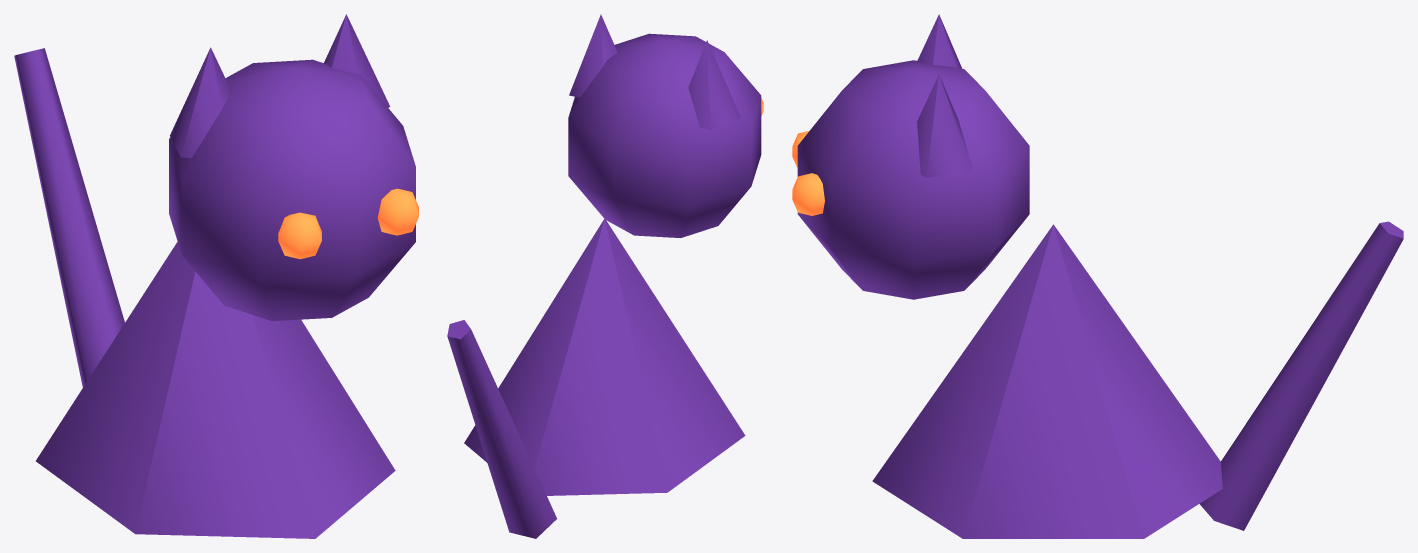
Rendered from spirit_rat.glb.
3 views of the same model, side by side, from view 1: azimuth 30°, elevation 25°; view 2: azimuth 150°, elevation 25°; view 3: azimuth 270°, elevation 25° (orthographic). The views are drawn at different scales.
Visible parts, largest first — view 1: body, head, tail, ear_r, ear_l, eye_r, eye_l; view 2: body, head, tail, ear_r, ear_l; view 3: body, head, tail, ear_l, ear_r, eye_l.
Part boxes in pixels (box(x1,y1,x2,y2)): body: box(36, 242, 395, 538); head: box(169, 59, 415, 321); tail: box(14, 48, 124, 387); ear_r: box(170, 47, 231, 157); ear_l: box(324, 14, 389, 107); eye_r: box(278, 212, 321, 259); eye_l: box(377, 188, 418, 235); body: box(464, 218, 745, 495); head: box(568, 33, 761, 237); tail: box(447, 320, 556, 538); ear_r: box(688, 40, 740, 129); ear_l: box(569, 14, 617, 97); body: box(872, 224, 1222, 538); head: box(797, 60, 1029, 299); tail: box(1199, 221, 1403, 530); ear_l: box(917, 74, 971, 177); ear_r: box(917, 14, 961, 68); eye_l: box(792, 173, 824, 215).
Bounding box in the file's own units: 1.07 × 2.08 × 2.41.
